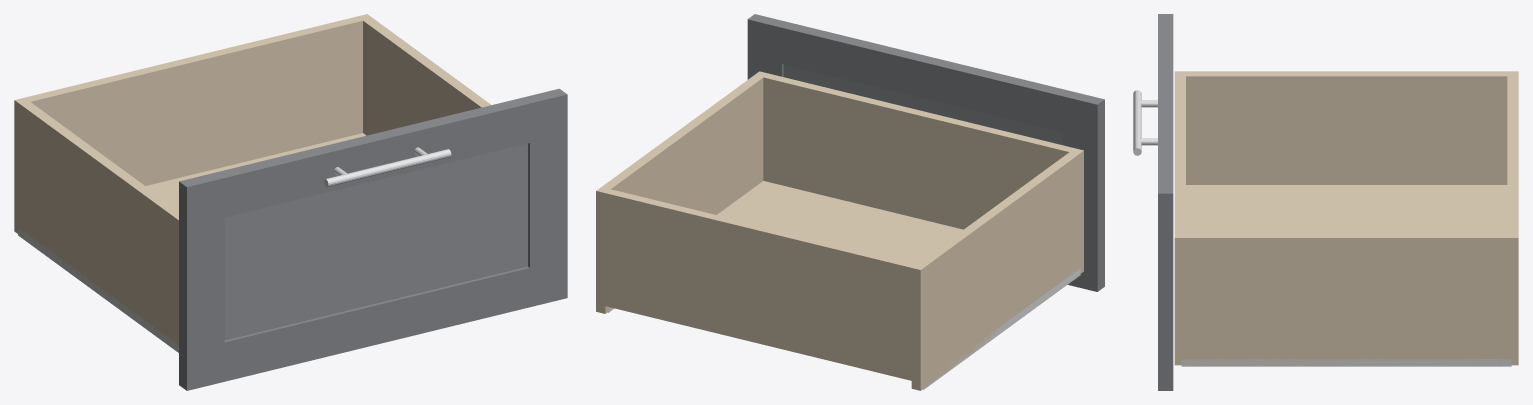
Rendered from skuff_K1_2.glb.
3 renders of one model, left to right at view 1: azimuth 30°, elevation 25°; view 2: azimuth 150°, elevation 25°; view 3: azimuth 270°, elevation 25°, orthographic. The views are drawn at different scales.
Bounding box in the file's own units: 606 × 310 × 549.
